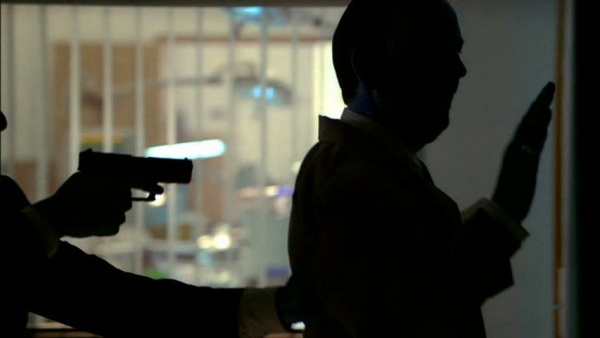Asalto: (80, 151, 190, 182)
